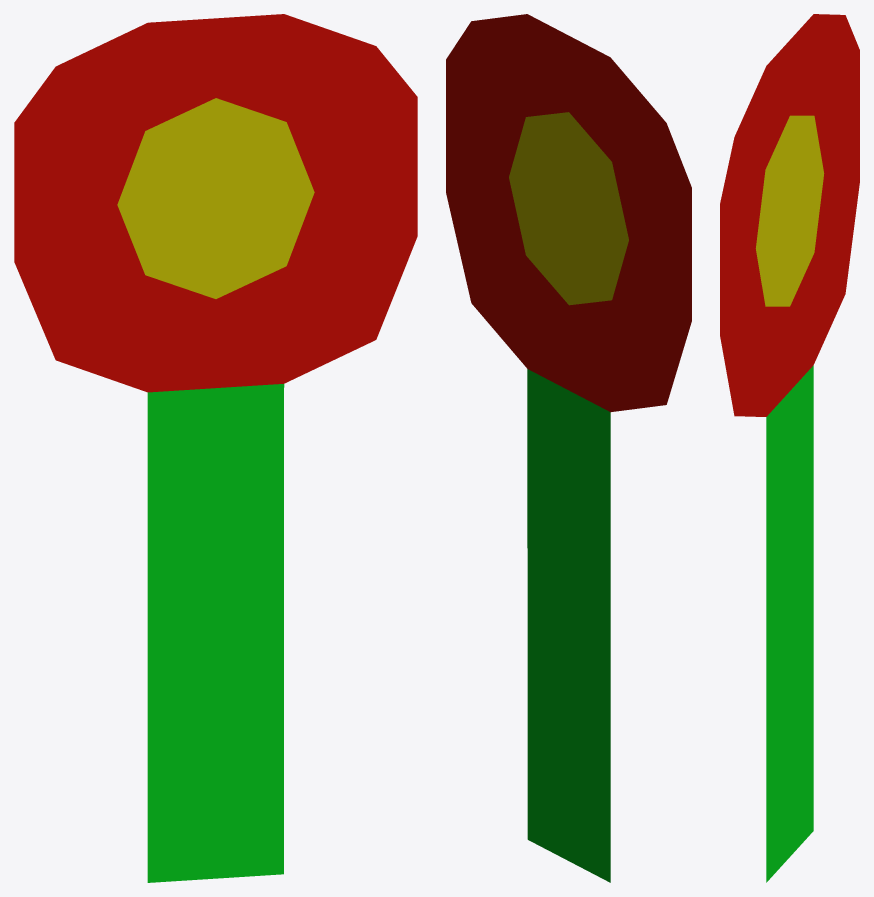
Rendered from Flower.glb.
3 renders of one model, left to right at view 1: azimuth 30°, elevation 25°; view 2: azimuth 150°, elevation 25°; view 3: azimuth 270°, elevation 25°, orthographic. The views are drawn at different scales.
Visible parts, largest first — view 1: Plane.002; view 2: Plane.002; view 3: Plane.002.
Part boxes in pixels (<box>): Plane.002: <box>14,14,417,882</box>; Plane.002: <box>446,14,691,882</box>; Plane.002: <box>720,14,859,882</box>.
Size of the model in its own units: 0.2536 by 0.6321 by 0.0981.
